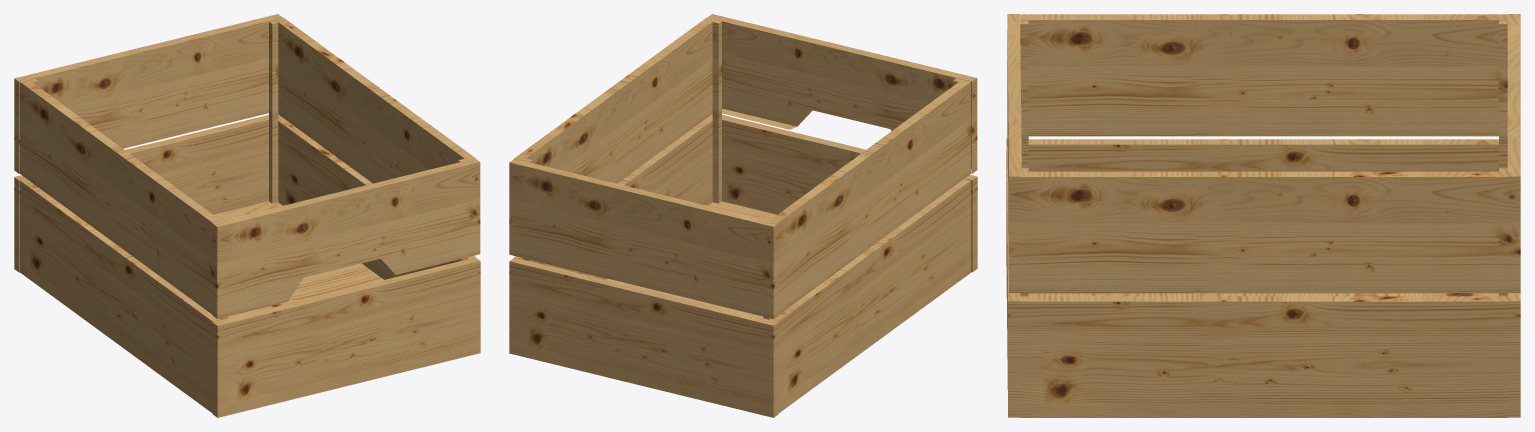
The model's file is Wooden box.FBX.
3 renders of one model, left to right at view 1: azimuth 30°, elevation 25°; view 2: azimuth 150°, elevation 25°; view 3: azimuth 270°, elevation 25°, orthographic. The views are drawn at different scales.
Visible parts, largest first — view 1: wooden box; view 2: wooden box; view 3: wooden box.
Part boxes in pixels (x1=…): wooden box: x1=14, y1=14, x2=480, y2=417; wooden box: x1=509, y1=14, x2=977, y2=417; wooden box: x1=1006, y1=14, x2=1520, y2=417.
Bounding box in the file's own units: 30.06 × 20.72 × 40.08.
Materials: 1 (1 with a texture image).
